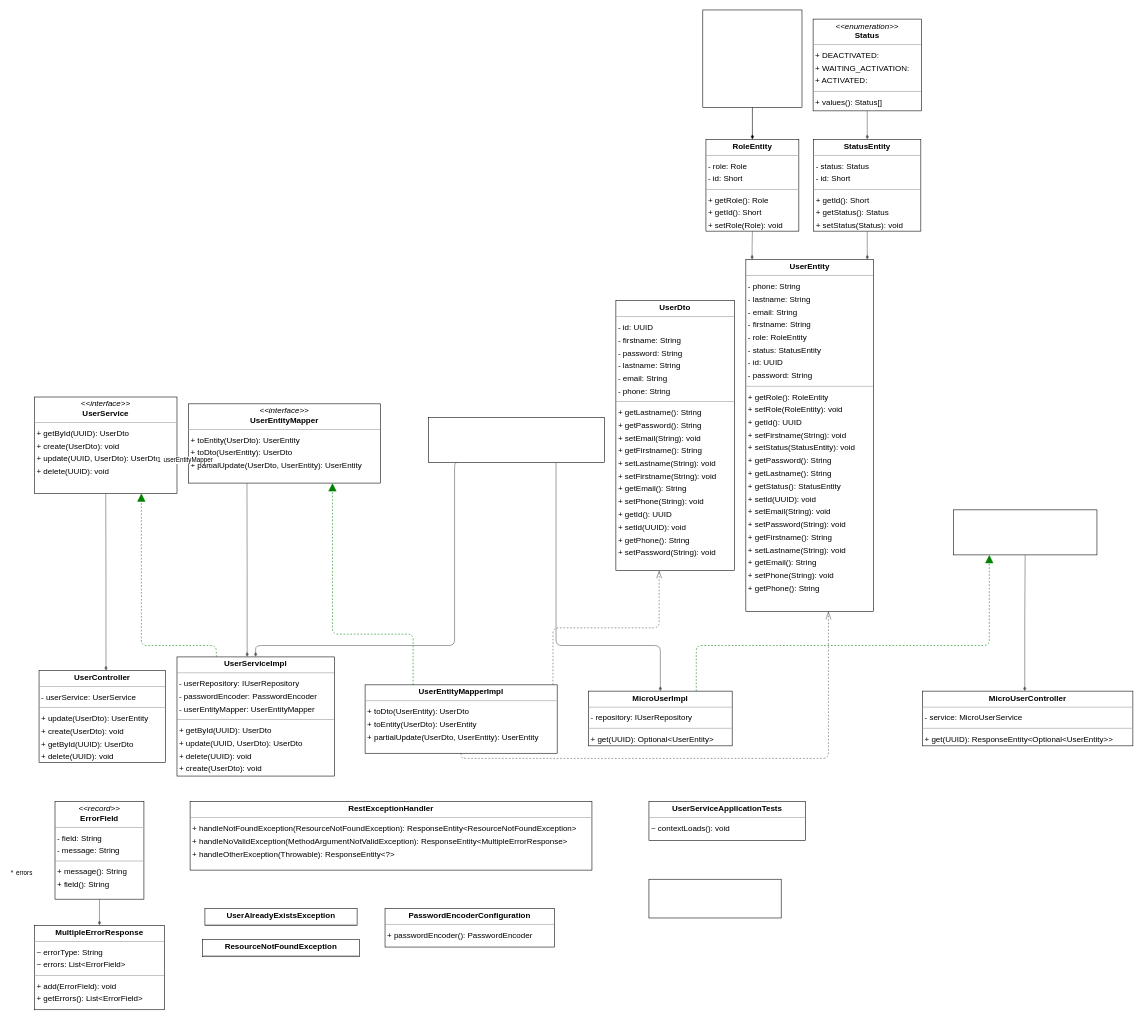
Some shapes in this 1143 by 1020 pixel diagram are drawn without their labels. The centre of each missing label's shape, as x and y in pixels:
"<<enumeration>> Role + USER: + ADMIN: + values(): Role[] + valueOf(String): Role" belongs at [752,58].
"<<interface>> IUserRepository + findByEmail(String): Optional<UserEntity>" belongs at [516,440].
"<<interface>> MicroUserService + get(UUID): Optional<UserEntity>" belongs at [1025,532].
"UserServiceApplication + main(String[]): void" belongs at [714,898].
